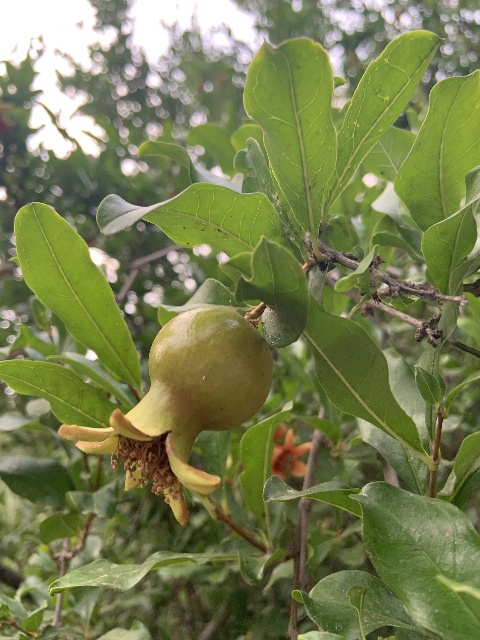flower: (270, 425, 311, 483)
mid-growth: (57, 306, 273, 526)
